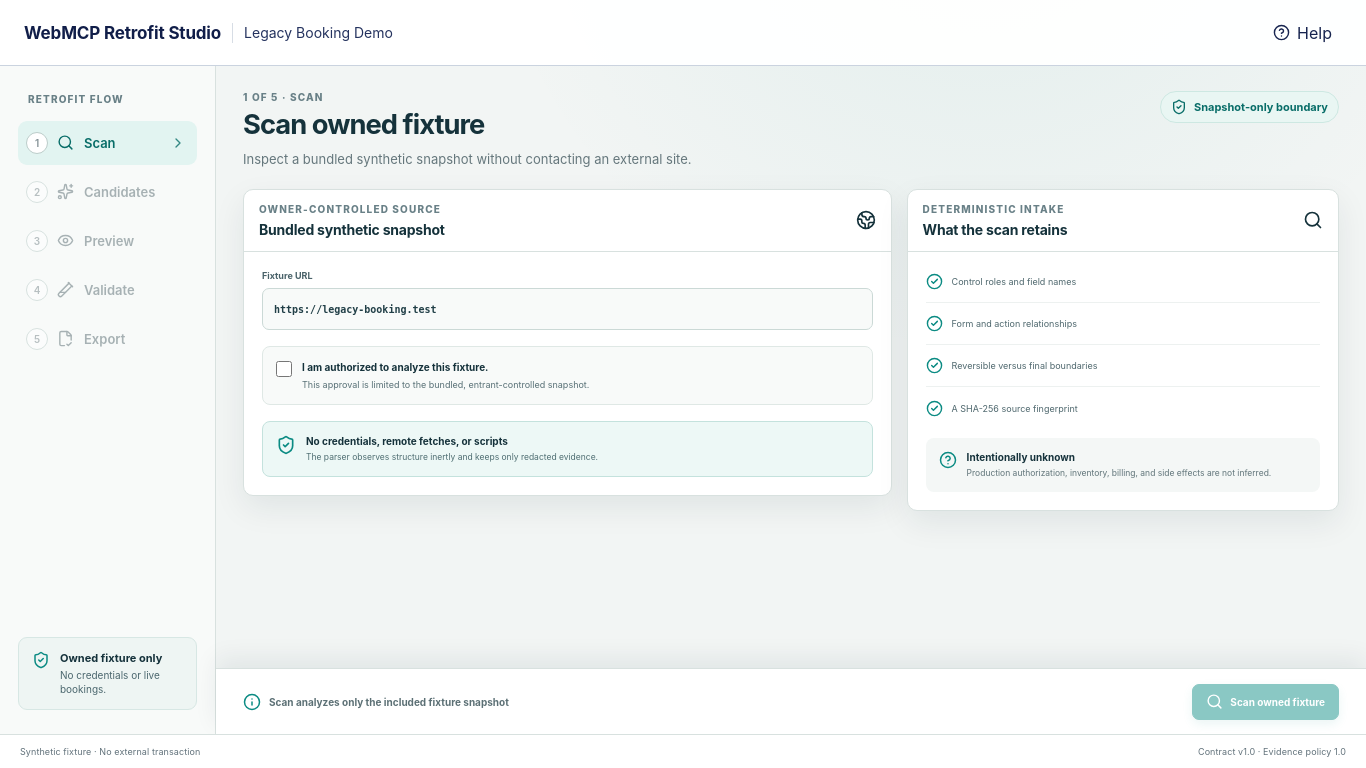
Test: connected five-step retrofit workflow › starts at Scan and requires owner authorization before inspecting the fixture
Check: the heading "Scan owned fixture" is shown, box [243,108,484,140]
Check: the button "Scan owned fixture" is disabled, box [1192,684,1339,720]
Click the checkbox labelled "authorized to analyze this fixture" at {"x": 284, "y": 369}, box [276,361,292,377]
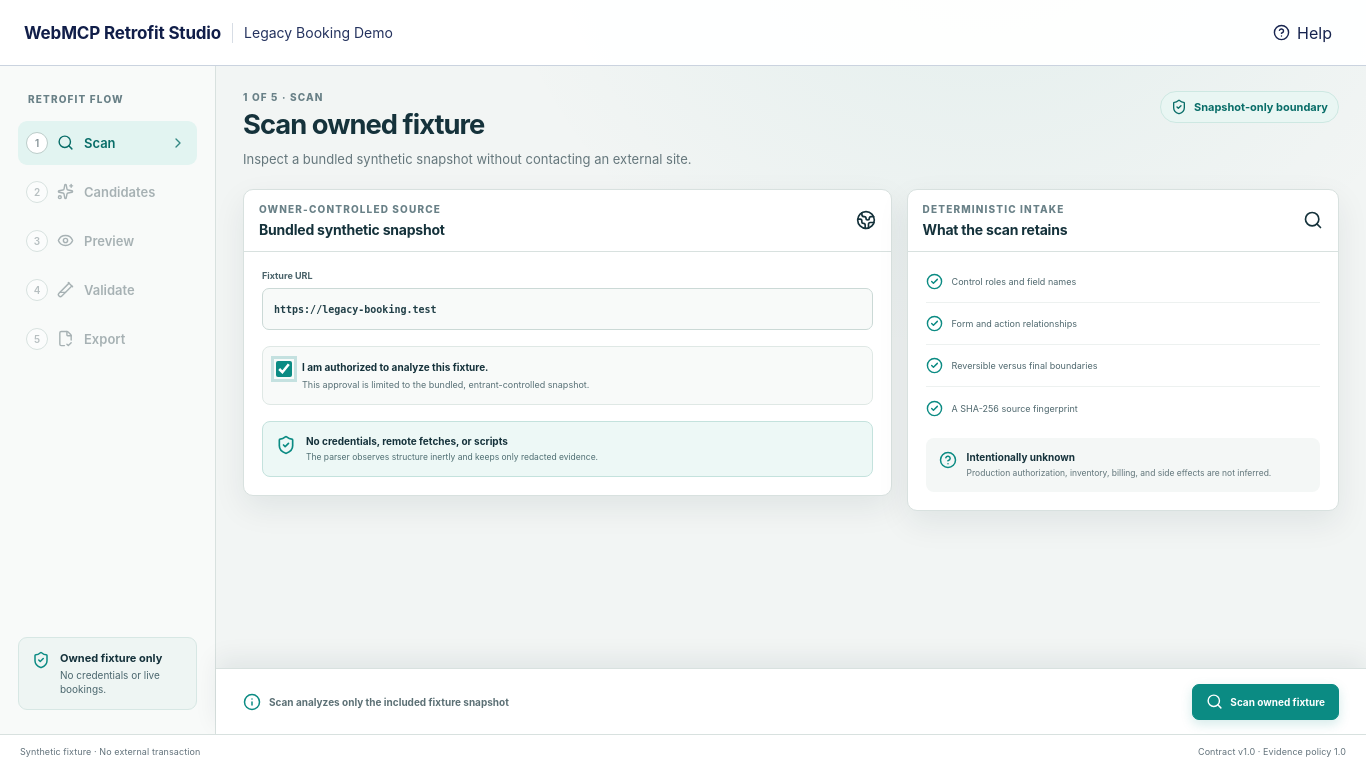
Check: the button "Scan owned fixture" is enabled, box [1192,684,1339,720]
